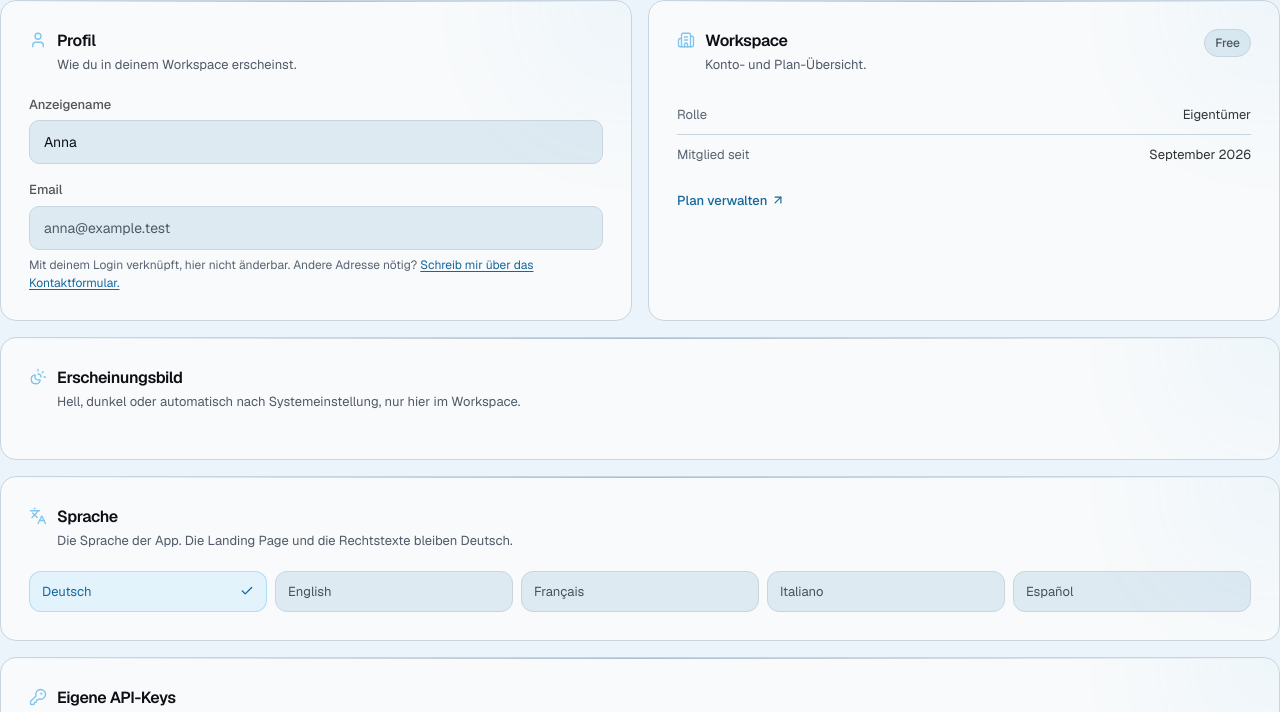
Test case: Speicherleiste › ein leerer Name zeigt den Fehler, rahmt das Feld rot und sperrt Speichern (Verwerfen bleibt)
The width and height of the screenshot is (1280, 712).
Step 1. Clear the field named "Anzeigename" → (316, 142), box [29,120,603,164]
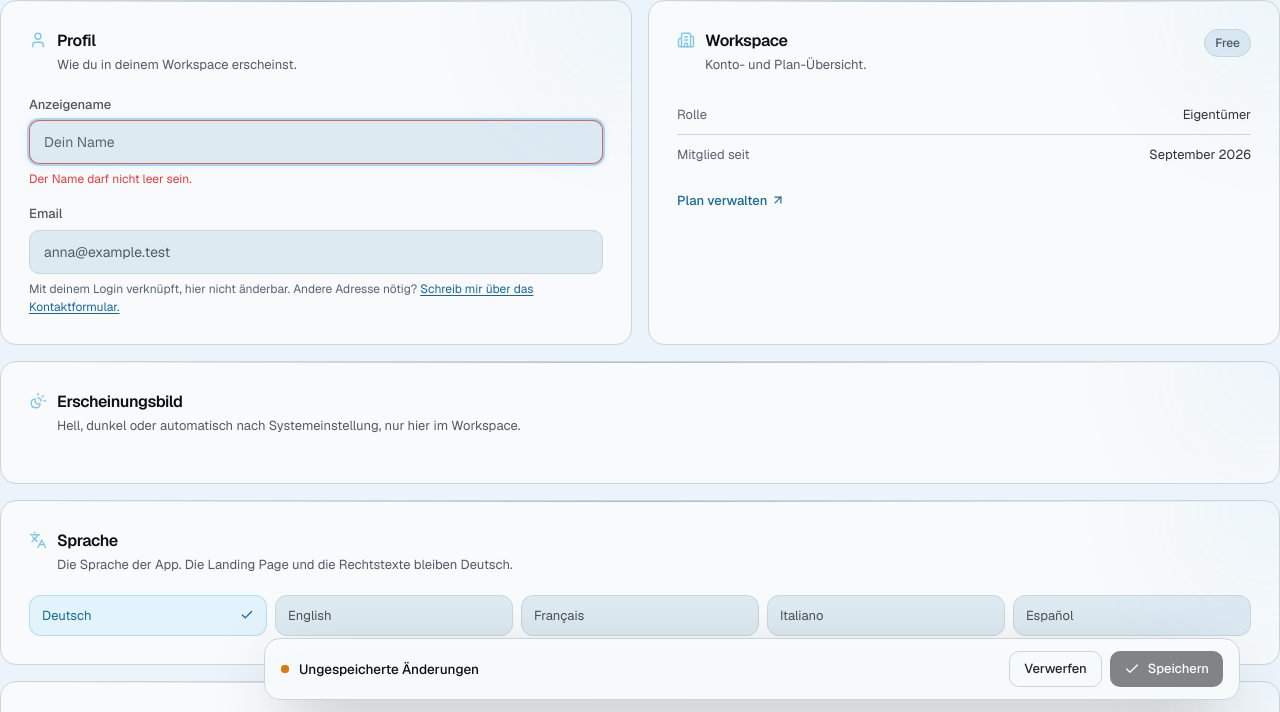
Now the text "Der Name darf nicht leer sein." is shown, box [29,171,192,187]
Now the button "Speichern" is disabled, box [1110,651,1223,687]
Now the button "Verwerfen" is enabled, box [1009,651,1102,687]
